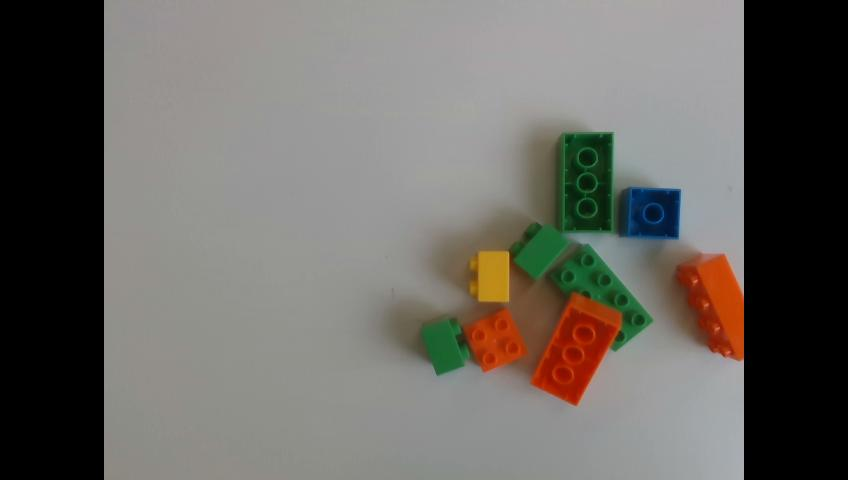2x2_blue: (619, 186, 682, 244)
2x2_green: (507, 222, 571, 281), (420, 314, 471, 377)
2x2_orange: (463, 308, 529, 373)
2x2_yellow: (469, 250, 509, 303)
4x2_green: (548, 244, 655, 353), (555, 131, 615, 232)
4x2_orange: (531, 292, 622, 407), (676, 253, 744, 361)
